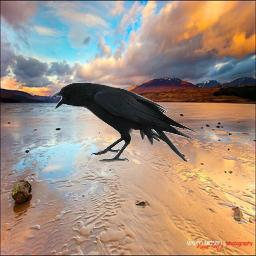Crow: (50, 82, 196, 163)
